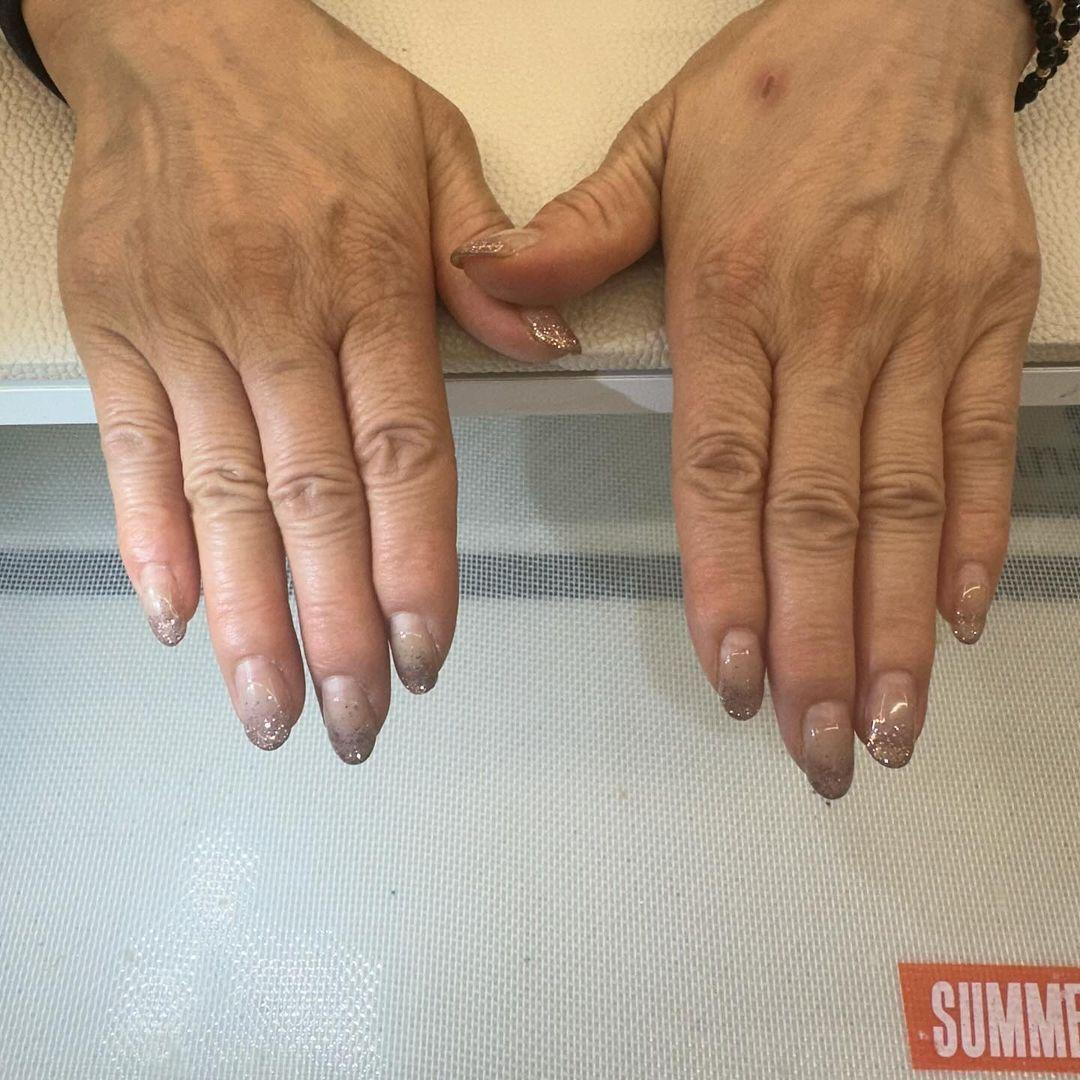nail: (859, 667, 921, 768), (232, 652, 293, 750), (799, 697, 855, 800), (716, 625, 765, 720), (387, 609, 440, 694), (136, 561, 185, 646), (448, 226, 542, 266), (948, 560, 990, 644), (519, 304, 581, 355)
